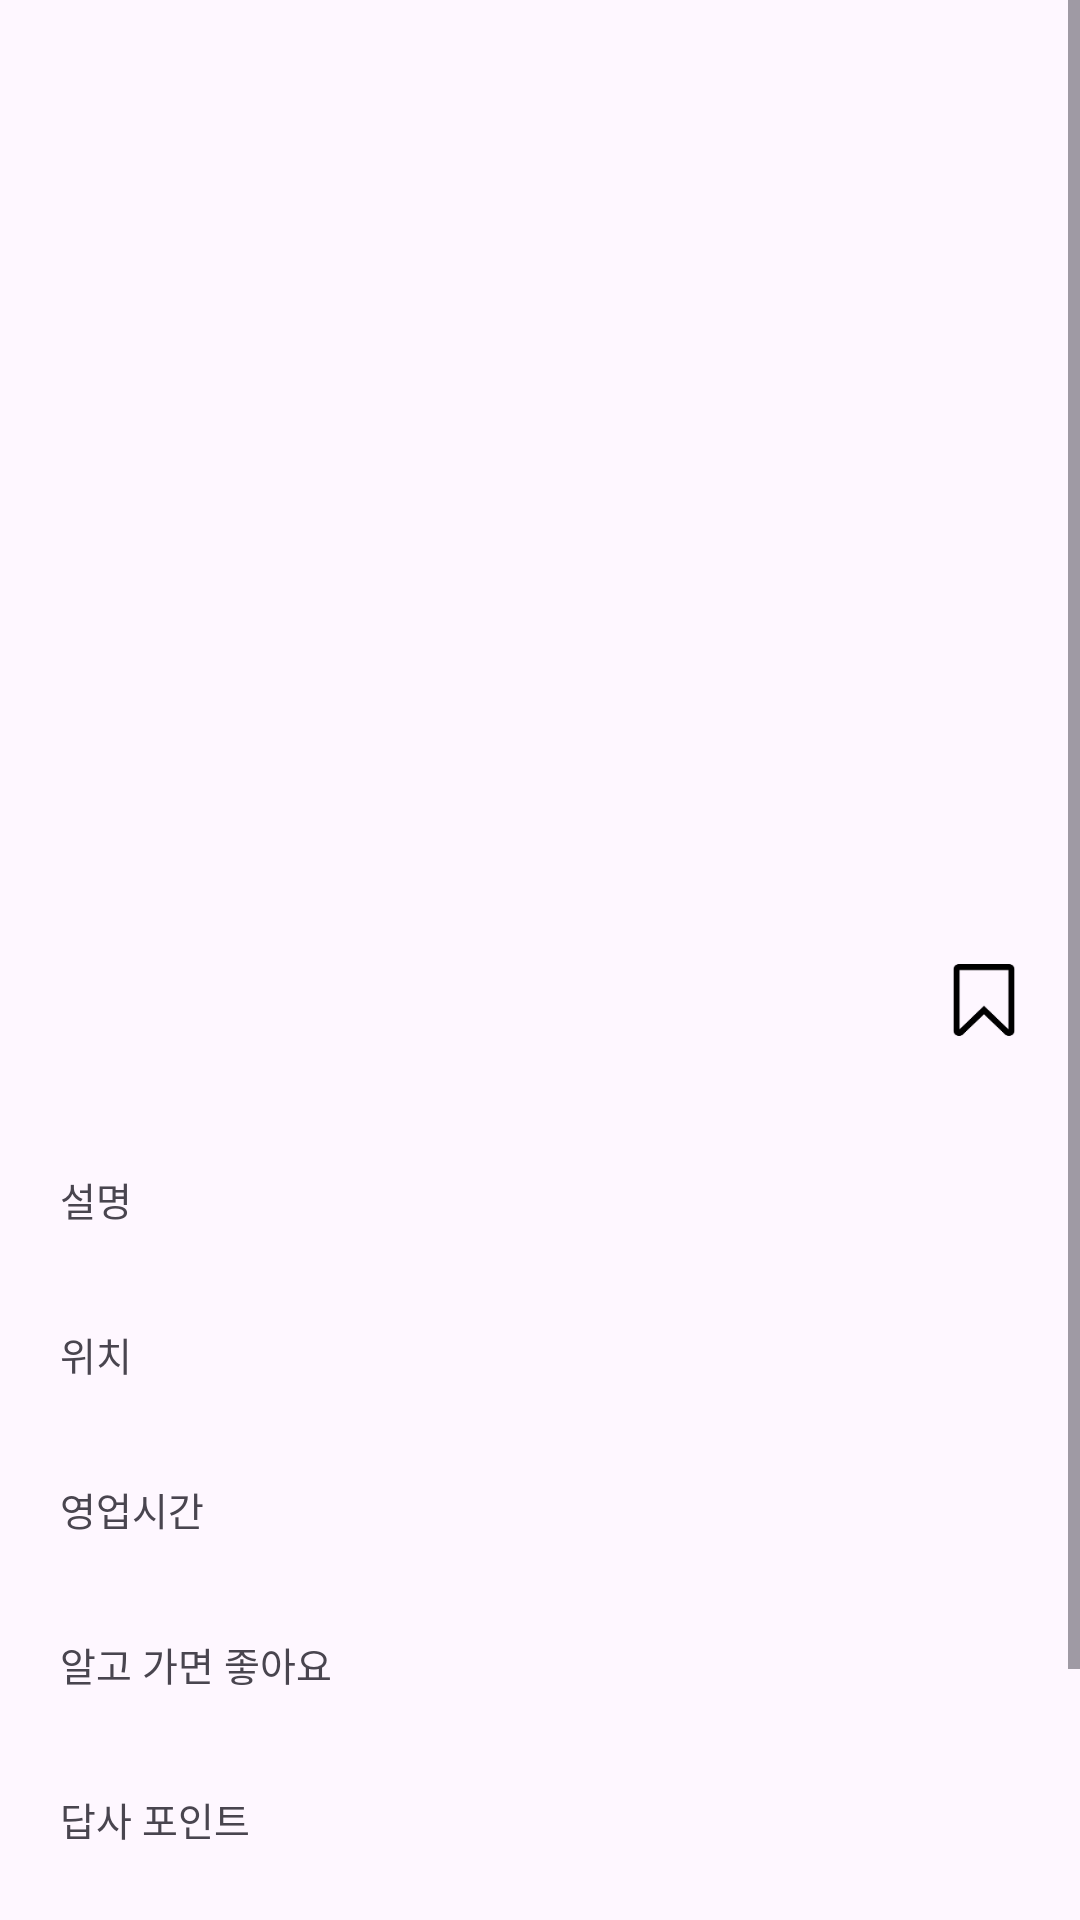

Where to tap for icons on this 1080 × 1920 app screen, as [x,y]:
bookmark: [984,1000]
